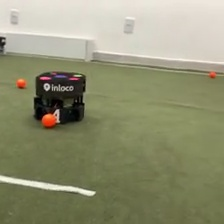ball: (40, 111, 56, 129), (15, 77, 26, 90), (208, 69, 216, 78)
goal: (1, 30, 94, 63)
robot: (31, 68, 88, 126), (1, 35, 8, 56)
